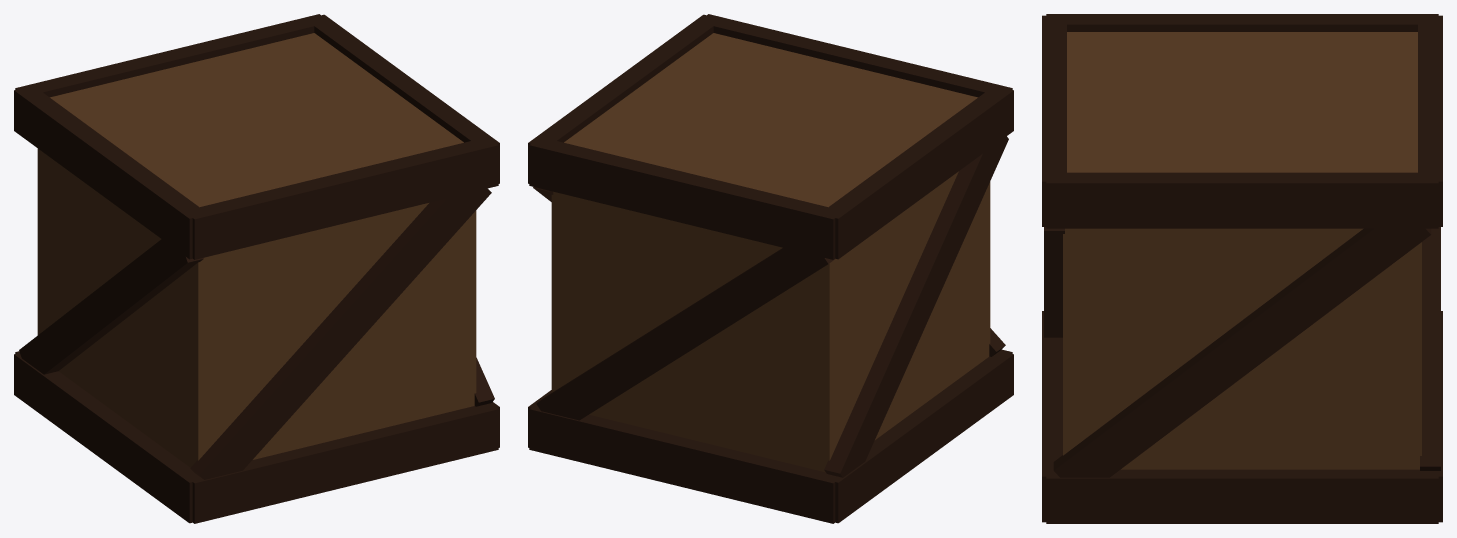
Rendered from caja.fbx.
3 renders of one model, left to right at view 1: azimuth 30°, elevation 25°; view 2: azimuth 150°, elevation 25°; view 3: azimuth 270°, elevation 25°, orthographic. The views are drawn at different scales.
Visible parts, largest first — view 1: caja; view 2: caja; view 3: caja.
Boxes of the visible parts, x1,y1,x2,y2 form: caja: (14,14,499,523); caja: (528,14,1013,523); caja: (1042,14,1442,523).
Size of the model in its own units: 0.96 by 0.9 by 0.96.
